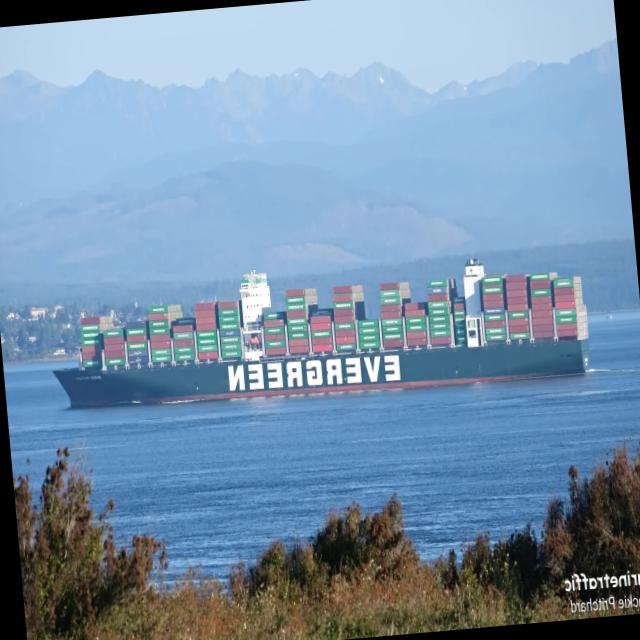Cargo: (55, 259, 588, 406)
